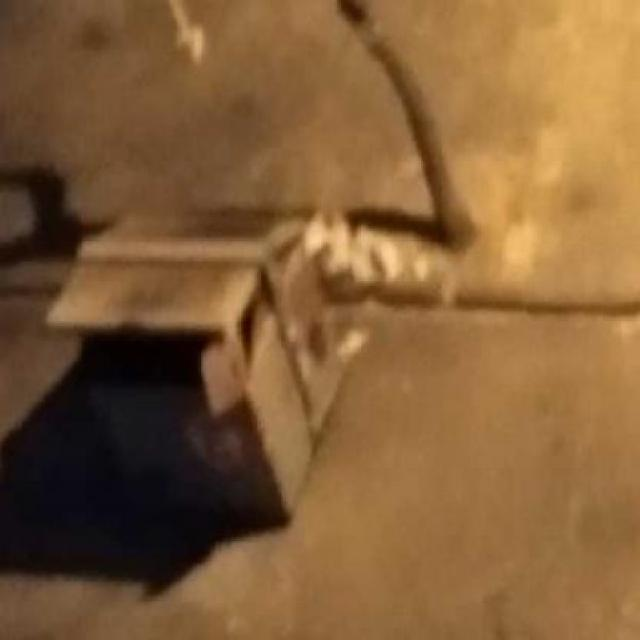garbage: (285, 203, 434, 318)
